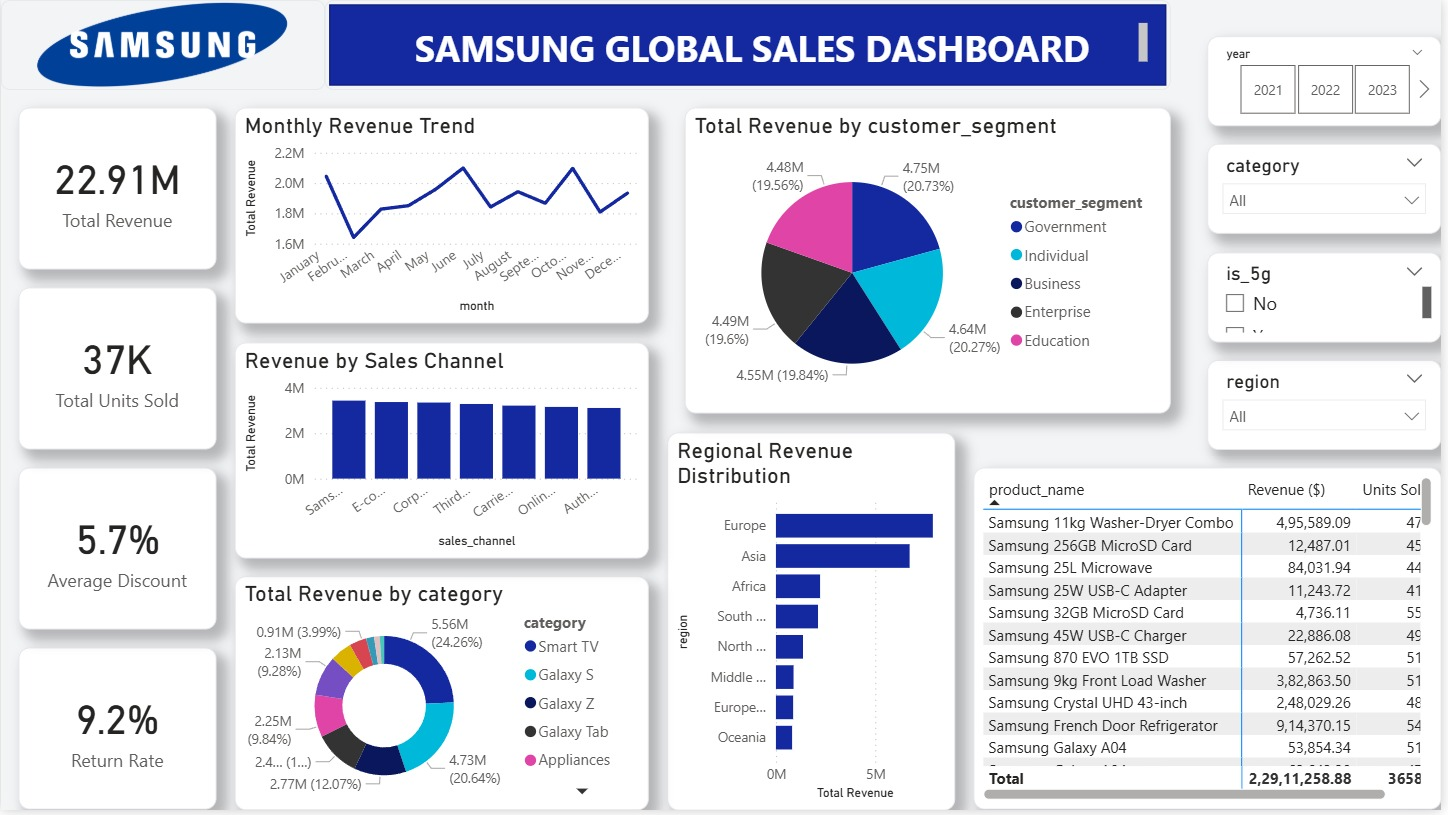

The page's visual inventory and layout, read from the dashboard file:
{"tool":"powerbi","page":{"name":"Page 1","canvas":[1280,720],"ordinal":0},"visuals":[{"type":"card","fields":{"Values":["samsung_global_sales_dataset (1).Return Rate"]},"box":[16,576,176,144],"z":0},{"type":"card","fields":{"Values":["samsung_global_sales_dataset (1).Average Discount"]},"box":[16,416,176,144],"z":1000},{"type":"card","fields":{"Values":["samsung_global_sales_dataset (1).Total Revenue"]},"box":[16,96,176,144],"z":2000},{"type":"card","fields":{"Values":["samsung_global_sales_dataset (1).Total Units Sold"]},"box":[16,256,176,144],"z":3000},{"type":"lineChart","title":"Monthly Revenue Trend","fields":{"Y":["samsung_global_sales_dataset (1).Total Revenue"],"Category":["samsung_global_sales_dataset (1).month"]},"box":[208,96,368,192],"z":4000},{"type":"clusteredBarChart","title":"Regional Revenue Distribution","fields":{"Category":["samsung_global_sales_dataset (1).region"],"Y":["samsung_global_sales_dataset (1).Total Revenue"]},"box":[592,384,256,336],"z":5000},{"type":"donutChart","fields":{"Category":["samsung_global_sales_dataset (1).category"],"Y":["samsung_global_sales_dataset (1).Total Revenue"]},"box":[208,512,368,208],"z":6000},{"type":"clusteredColumnChart","title":"Revenue by Sales Channel","fields":{"Category":["samsung_global_sales_dataset (1).sales_channel"],"Y":["samsung_global_sales_dataset (1).Total Revenue"]},"box":[208,304,368,192],"z":7000},{"type":"pieChart","fields":{"Category":["samsung_global_sales_dataset (1).customer_segment"],"Y":["samsung_global_sales_dataset (1).Total Revenue"]},"box":[608,96,432,272],"z":8000},{"type":"slicer","fields":{"Values":["samsung_global_sales_dataset (1).year"]},"box":[1072,32,208,80],"z":9000},{"type":"image","box":[0,0,288,80],"z":10000},{"type":"shape","box":[288,0,752,80],"z":11000},{"type":"textbox","box":[320,16,704,48],"z":12000},{"type":"slicer","fields":{"Values":["samsung_global_sales_dataset (1).region"]},"box":[1072,320,208,80],"z":13000},{"type":"slicer","fields":{"Values":["samsung_global_sales_dataset (1).category"]},"box":[1072,128,208,80],"z":14000},{"type":"slicer","fields":{"Values":["samsung_global_sales_dataset (1).is_5g"]},"box":[1072,224,208,80],"z":15000},{"type":"pivotTable","fields":{"Rows":["samsung_global_sales_dataset (1).product_name"],"Values":["samsung_global_sales_dataset (1).Total Revenue","samsung_global_sales_dataset (1).Total Units Sold"]},"box":[864,416,416,304],"z":16000}]}

Visuals, with their boxes in screenshot pixels (x1, y1, x2, y2), scaled from the page's 1280x720 canvas onto the 1448x815 screenshot:
card - samsung_global_sales_dataset (1).Return Rate: [18,652,217,814]
card - samsung_global_sales_dataset (1).Average Discount: [18,471,217,634]
card - samsung_global_sales_dataset (1).Total Revenue: [18,109,217,272]
card - samsung_global_sales_dataset (1).Total Units Sold: [18,290,217,453]
"Monthly Revenue Trend" lineChart: [235,109,652,326]
"Regional Revenue Distribution" clusteredBarChart: [670,435,959,814]
donutChart - samsung_global_sales_dataset (1).category x samsung_global_sales_dataset (1).Total Revenue: [235,580,652,814]
"Revenue by Sales Channel" clusteredColumnChart: [235,344,652,561]
pieChart - samsung_global_sales_dataset (1).customer_segment x samsung_global_sales_dataset (1).Total Revenue: [688,109,1176,417]
slicer - samsung_global_sales_dataset (1).year: [1213,36,1447,127]
image: [0,0,326,91]
shape: [326,0,1176,91]
textbox: [362,18,1158,72]
slicer - samsung_global_sales_dataset (1).region: [1213,362,1447,453]
slicer - samsung_global_sales_dataset (1).category: [1213,145,1447,235]
slicer - samsung_global_sales_dataset (1).is_5g: [1213,254,1447,344]
pivotTable - samsung_global_sales_dataset (1).product_name x samsung_global_sales_dataset (1).Total Revenue: [977,471,1447,814]
